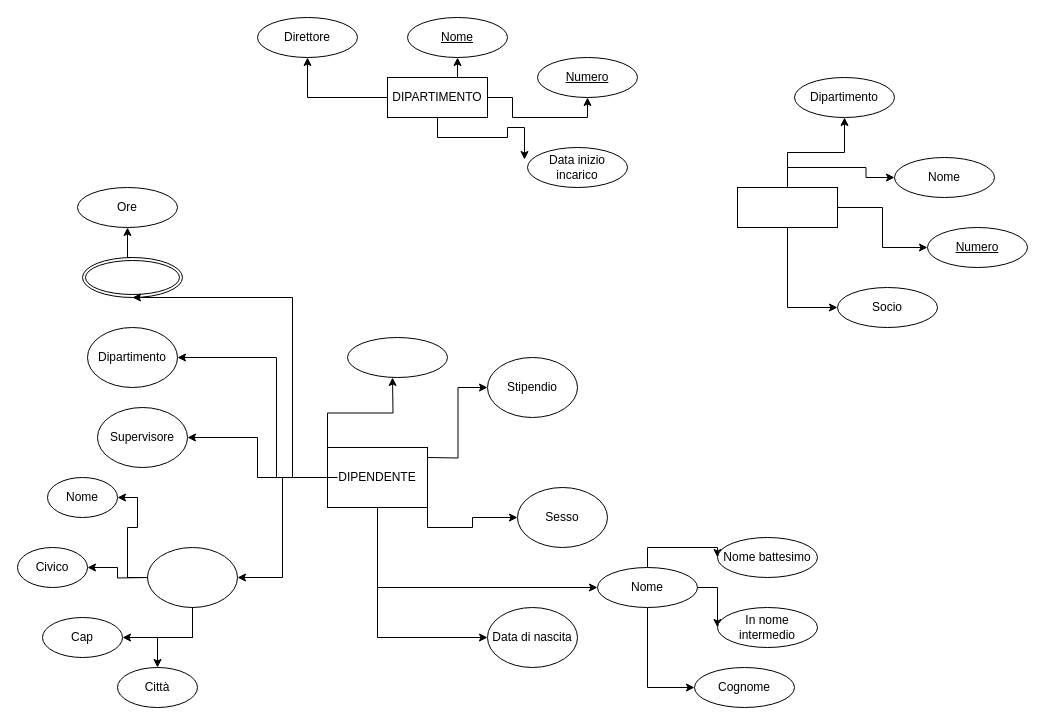
Image size: 1045x725. Some labels were removed from this diagram. Here are the shapes that lost their labels. From the top down, the box of each, then its label:
(736, 186, 838, 228): PROGETTO
(82, 256, 182, 298): Progetti
(346, 336, 448, 378): CF
(146, 546, 238, 608): Indirizzo
